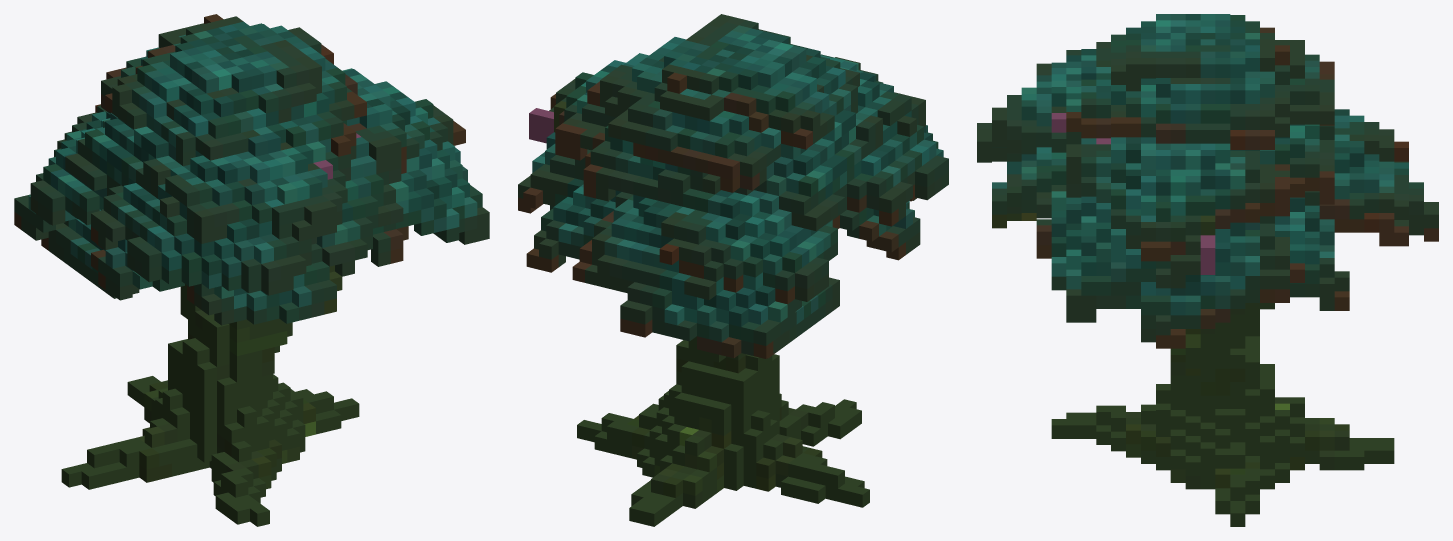
File: Tree 1.obj
3 renders of one model, left to right at view 1: azimuth 30°, elevation 25°; view 2: azimuth 150°, elevation 25°; view 3: azimuth 270°, elevation 25°, orthographic. The views are drawn at different scales.
Size of the model in its own units: 2.9 by 3.1 by 3.1.
Materials: 1 (1 with a texture image).
